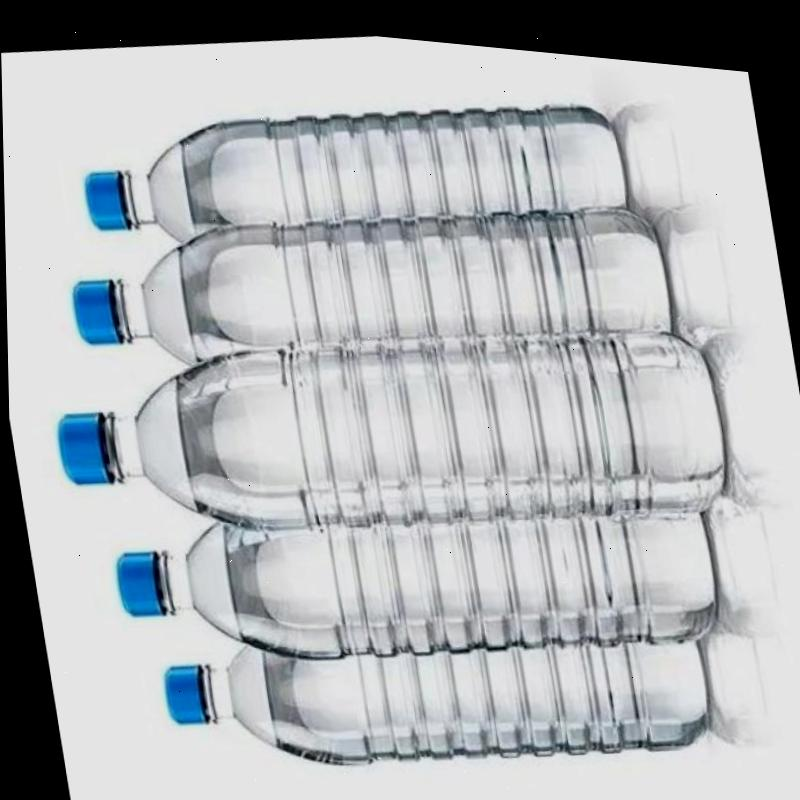botella: (39, 259, 733, 593), (101, 439, 726, 712), (57, 148, 677, 417), (69, 47, 634, 289), (151, 564, 716, 800)
